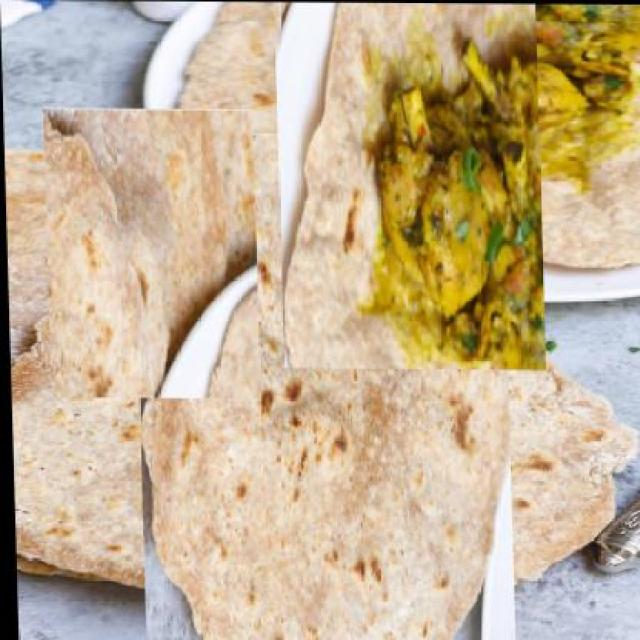chapati: (66, 196, 579, 638), (221, 2, 597, 320), (23, 128, 280, 381)
